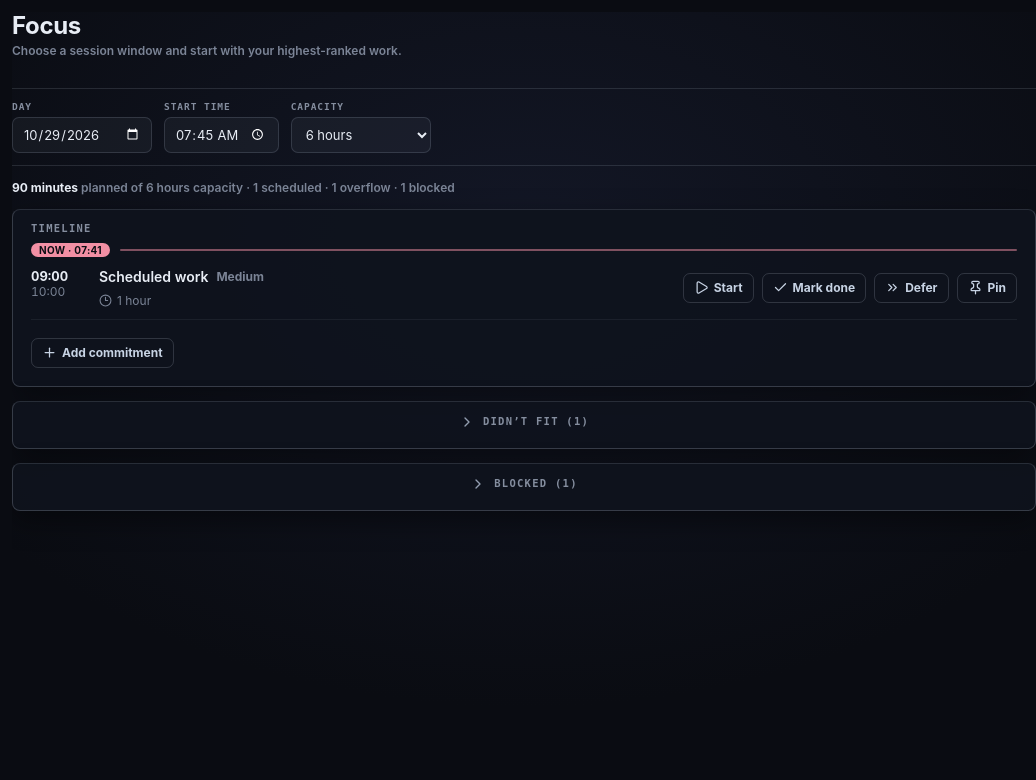
Scenario: FocusPage › renders overflow and blocked sections with dependency warnings
Expected: the link "Overflow task" is not shown
Step 1. Click the button "Didn’t fit (1)" → (524, 422), box 31,414 -> 1017,430
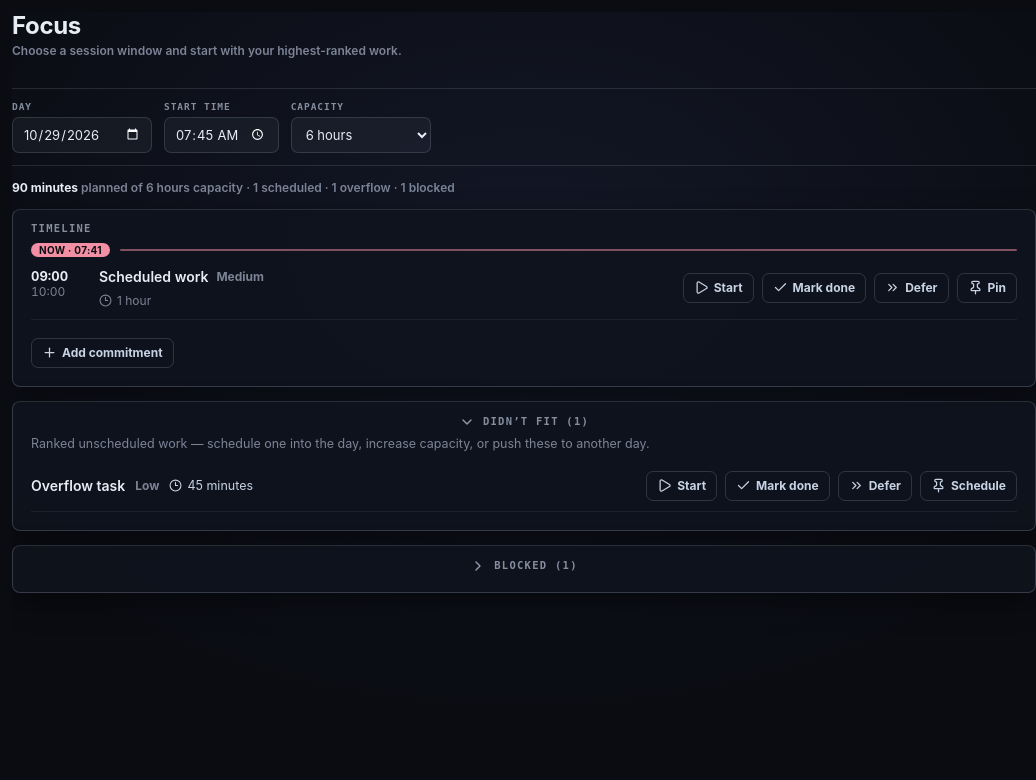
Expected: the text "Waiting on 1 unfinished dependency" is not shown
Expected: the link "Overflow task" is shown, 31,477 -> 125,495
Step 2. Click the button "Blocked (1)" → (524, 566), box 31,558 -> 1017,574
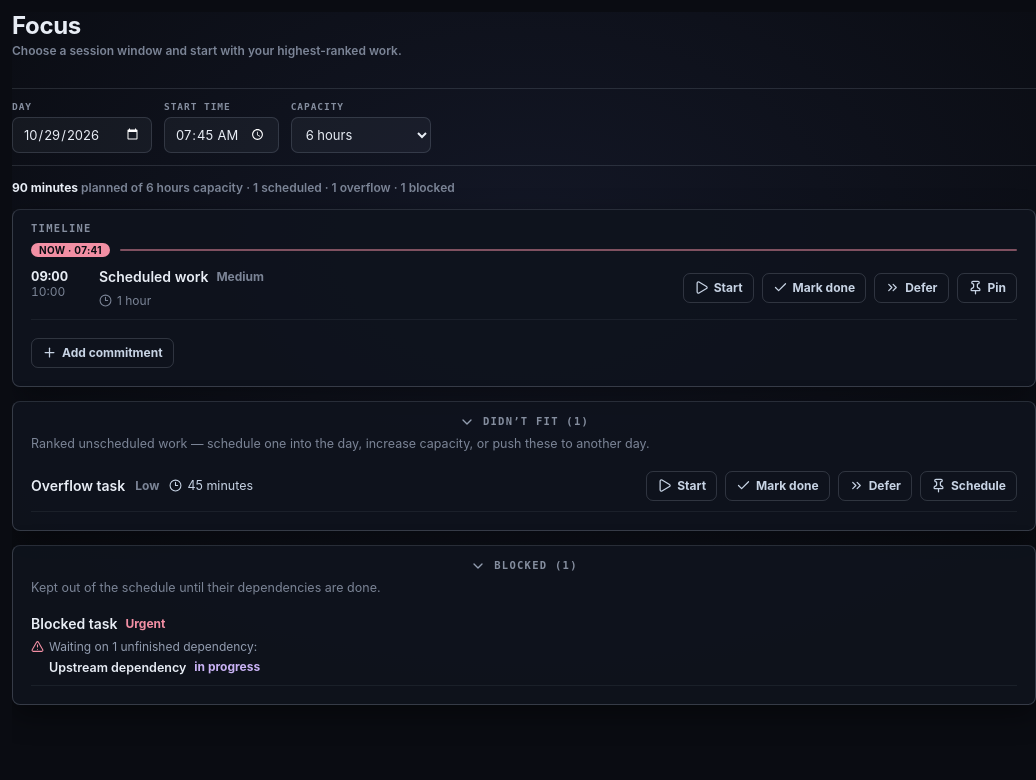
Expected: the text "Waiting on 1 unfinished dependency:" is shown, 31,639 -> 257,654
Expected: the text "in progress" is shown, 194,660 -> 260,675
